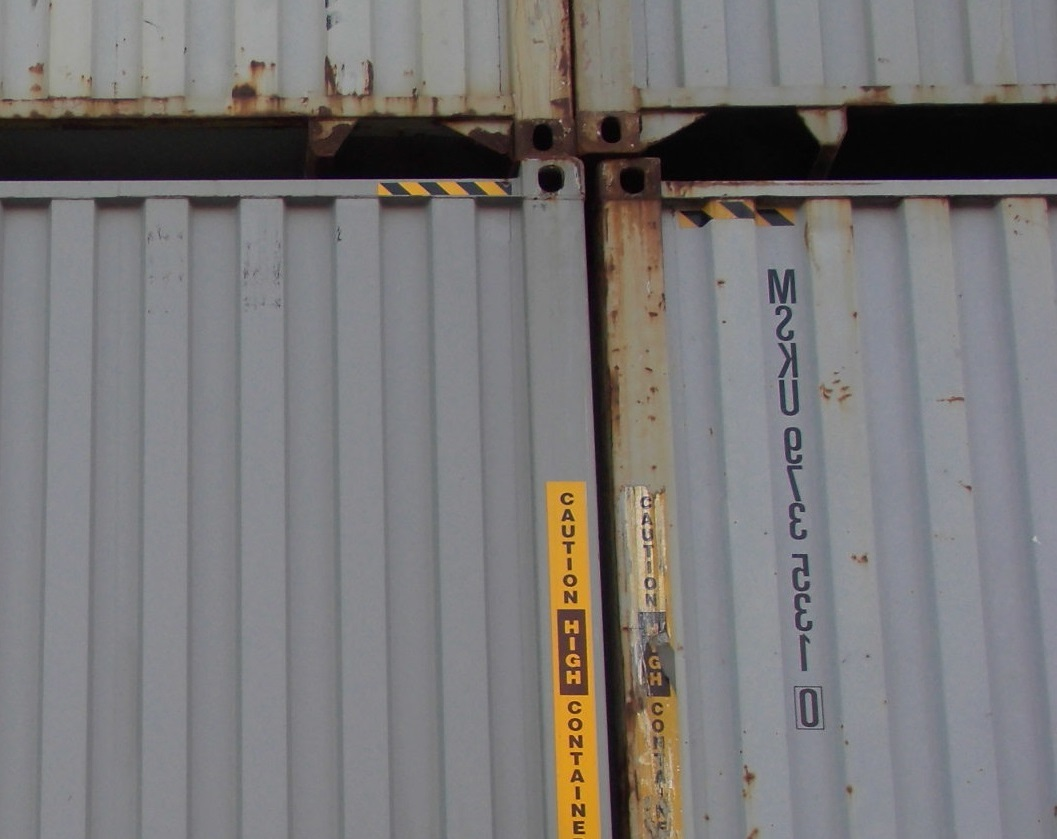container_no_door: (2, 165, 607, 839), (621, 165, 1056, 839)
